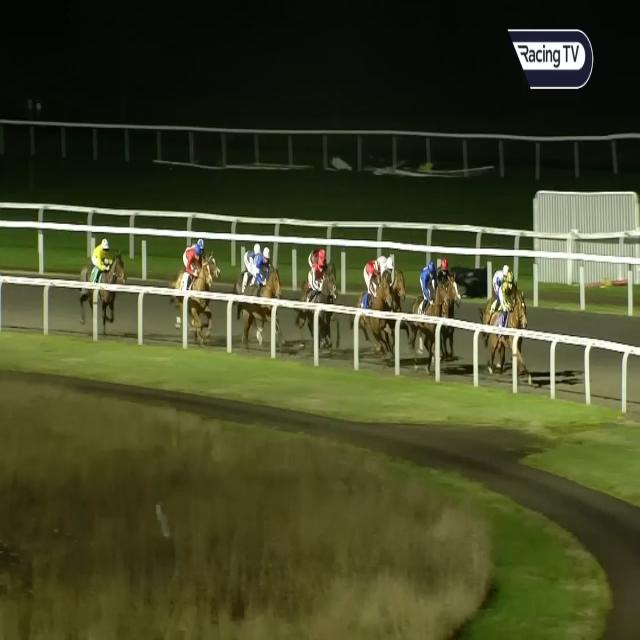horses-racing: (170, 241, 224, 342), (246, 236, 288, 352), (70, 234, 128, 316), (485, 275, 533, 369), (354, 252, 396, 357), (305, 255, 347, 345), (413, 262, 448, 350), (372, 254, 408, 312), (428, 252, 459, 317), (482, 254, 511, 316), (182, 232, 218, 274), (239, 236, 265, 291), (306, 240, 332, 292)
